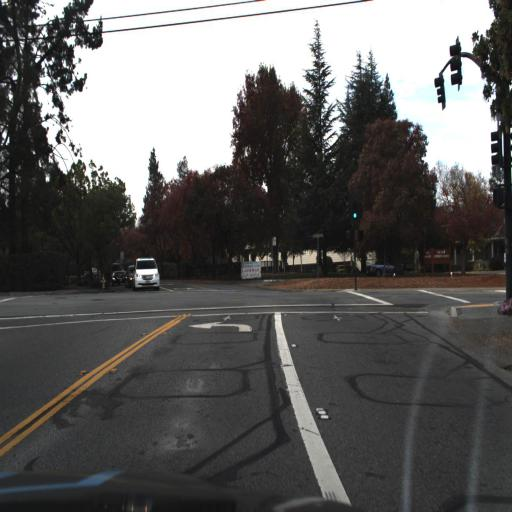car: (131, 256, 162, 292), (361, 257, 395, 281), (111, 261, 130, 286), (123, 261, 136, 290)
trafficLight-Green: (349, 205, 365, 227), (351, 189, 359, 220)
